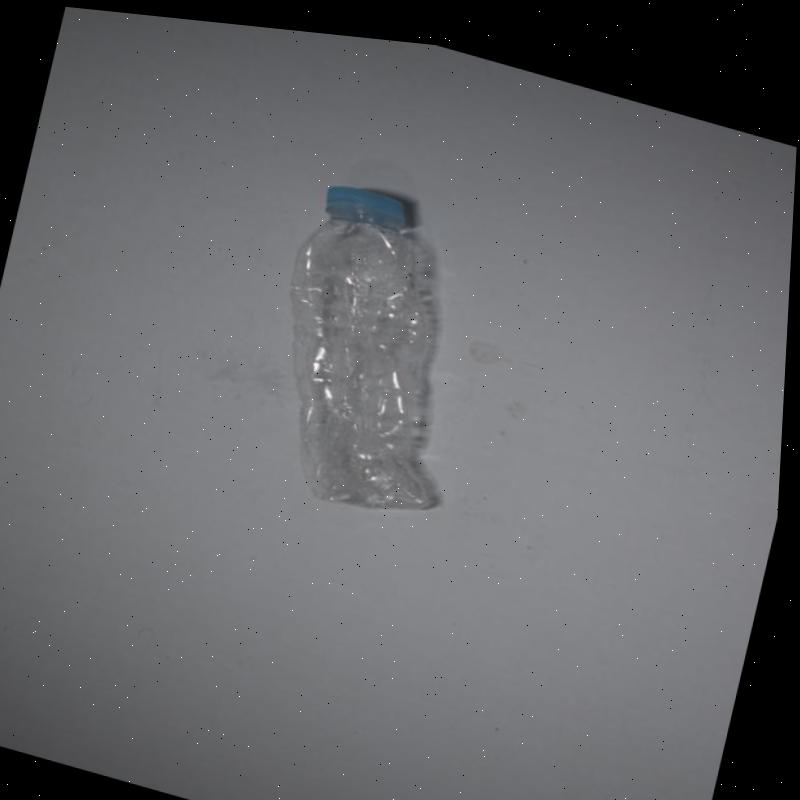botella: (243, 159, 507, 527)
